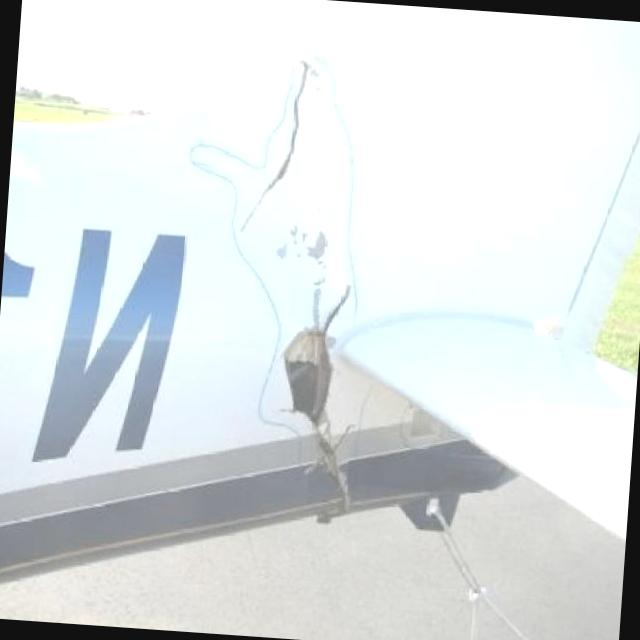crack: (238, 68, 312, 218)
